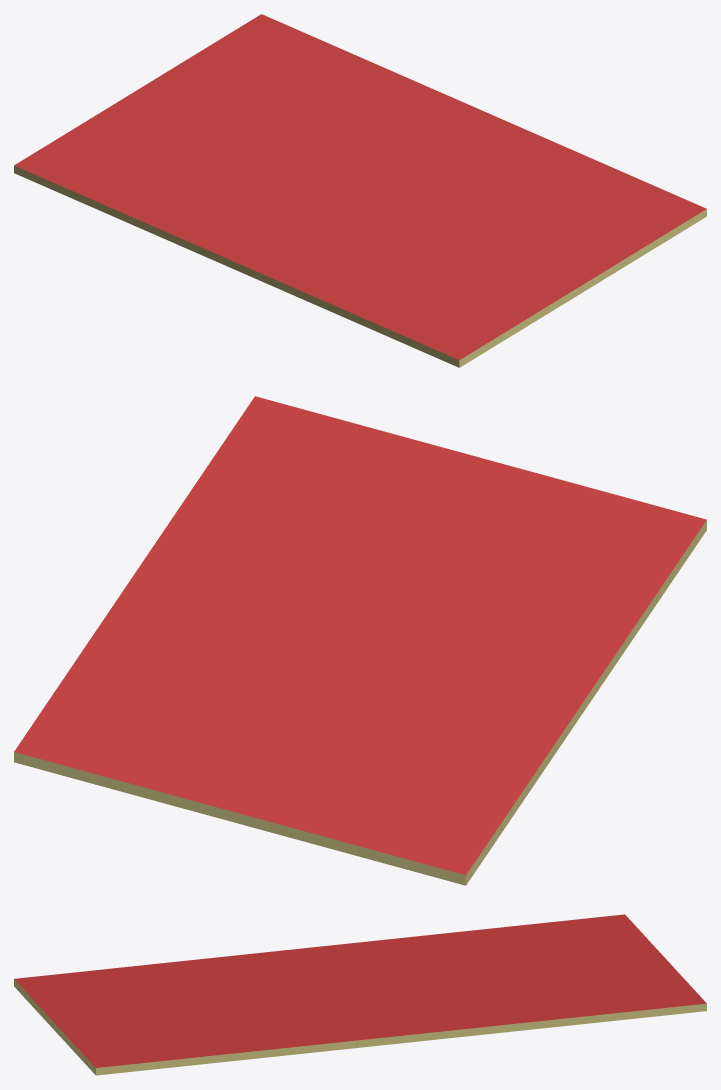
3 renders of one model, top to bottom at view 1: azimuth 30°, elevation 25°; view 2: azimuth 150°, elevation 25°; view 3: azimuth 270°, elevation 25°, orthographic. The views are drawn at different scales.
Bounding box in the file's own units: 5.79 × 8.34 × 0.757.
